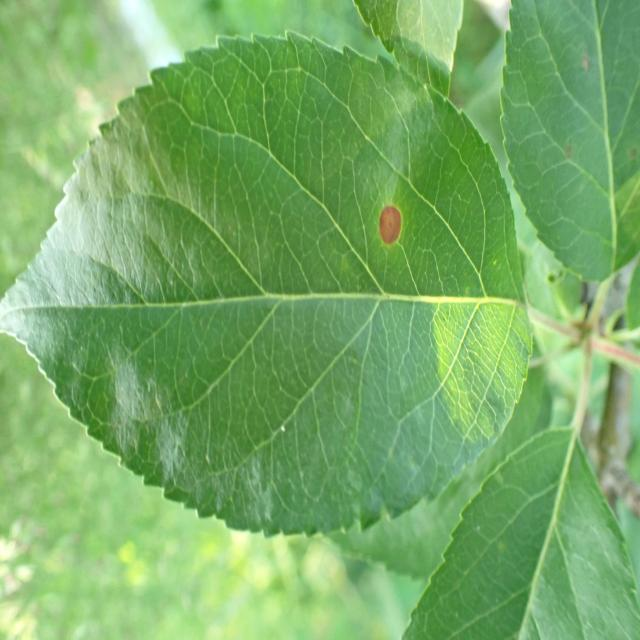frog-eye-leaf-spot: (0, 28, 535, 542), (499, 2, 640, 286)
